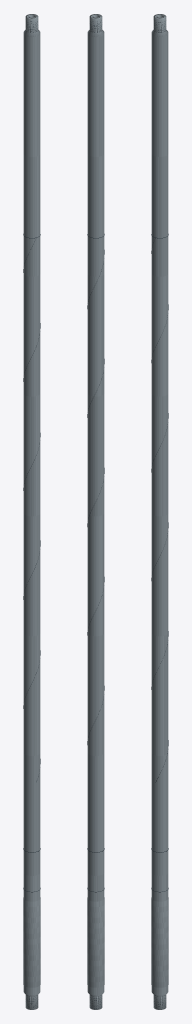
Rendered from motor.glb.
3 renders of one model, left to right at view 1: azimuth 30°, elevation 25°; view 2: azimuth 150°, elevation 25°; view 3: azimuth 330°, elevation 25°, orthographic.
Visible parts, largest first — view 1: tool-housing (×2), bearing-housing (×2), uphole-connection, downhole-connection; view 2: tool-housing (×2), bearing-housing (×2), uphole-connection, downhole-connection; view 3: tool-housing (×2), bearing-housing (×2), uphole-connection, downhole-connection.
Part boxes in pixels (x1,y1,x2,y2): tool-housing (×2): (23,14,40,1009); bearing-housing (×2): (23,897,40,987); uphole-connection: (26,14,38,32); downhole-connection: (26,995,38,1009); tool-housing (×2): (87,14,104,1009); bearing-housing (×2): (87,897,104,987); uphole-connection: (89,14,101,32); downhole-connection: (89,995,101,1009); tool-housing (×2): (151,14,168,1009); bearing-housing (×2): (151,897,168,987); uphole-connection: (153,14,165,32); downhole-connection: (153,995,165,1009).
Size of the model in its own units: 0.1194 by 7.48 by 0.1194.
3 materials, 3 textured.
